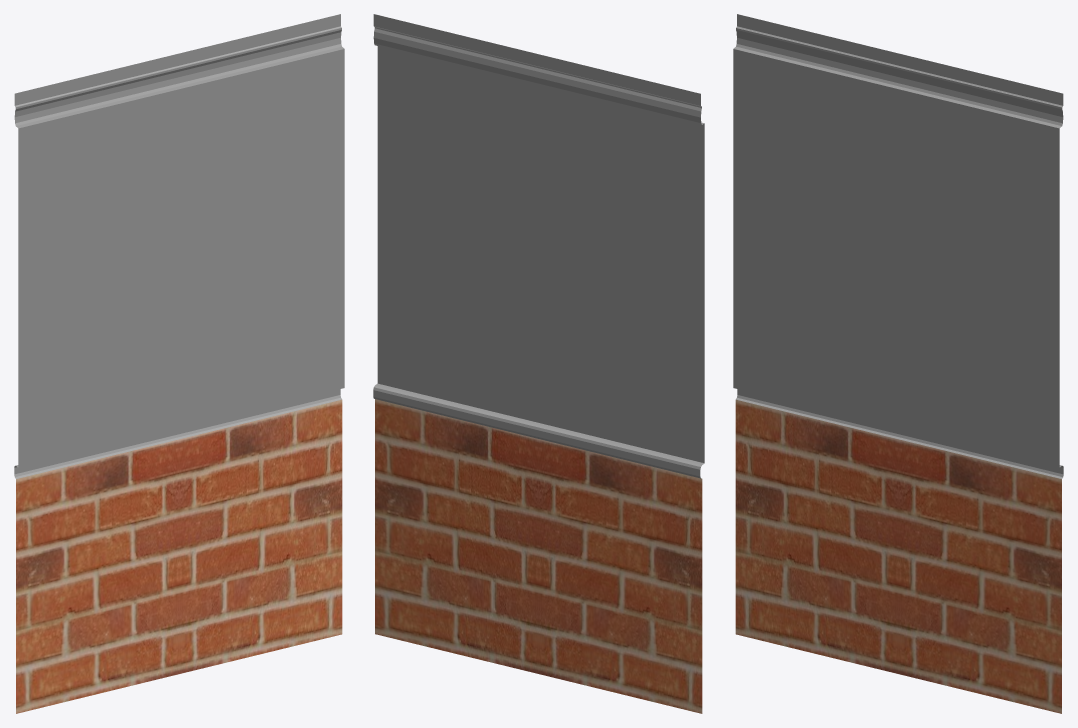
The model's file is SM_MurCouloir.fbx.
The picture shows the model from 3 angles, left to right: view 1: azimuth 30°, elevation 25°; view 2: azimuth 150°, elevation 25°; view 3: azimuth 330°, elevation 25°; orthographic projection.
Parts seen in each view (by area): view 1: SM_MurCouloir; view 2: SM_MurCouloir; view 3: SM_MurCouloir.
Part boxes in pixels (x1,y1,x2,y2): SM_MurCouloir: [14, 14, 344, 713]; SM_MurCouloir: [373, 14, 704, 713]; SM_MurCouloir: [733, 14, 1063, 713].
Bounding box in the file's own units: 146 × 264 × 3.31.
Materials: 4 (1 with a texture image).
